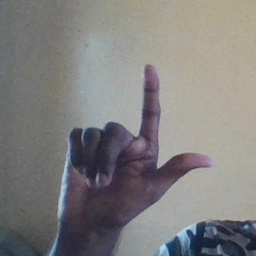L: (55, 62, 214, 226)
